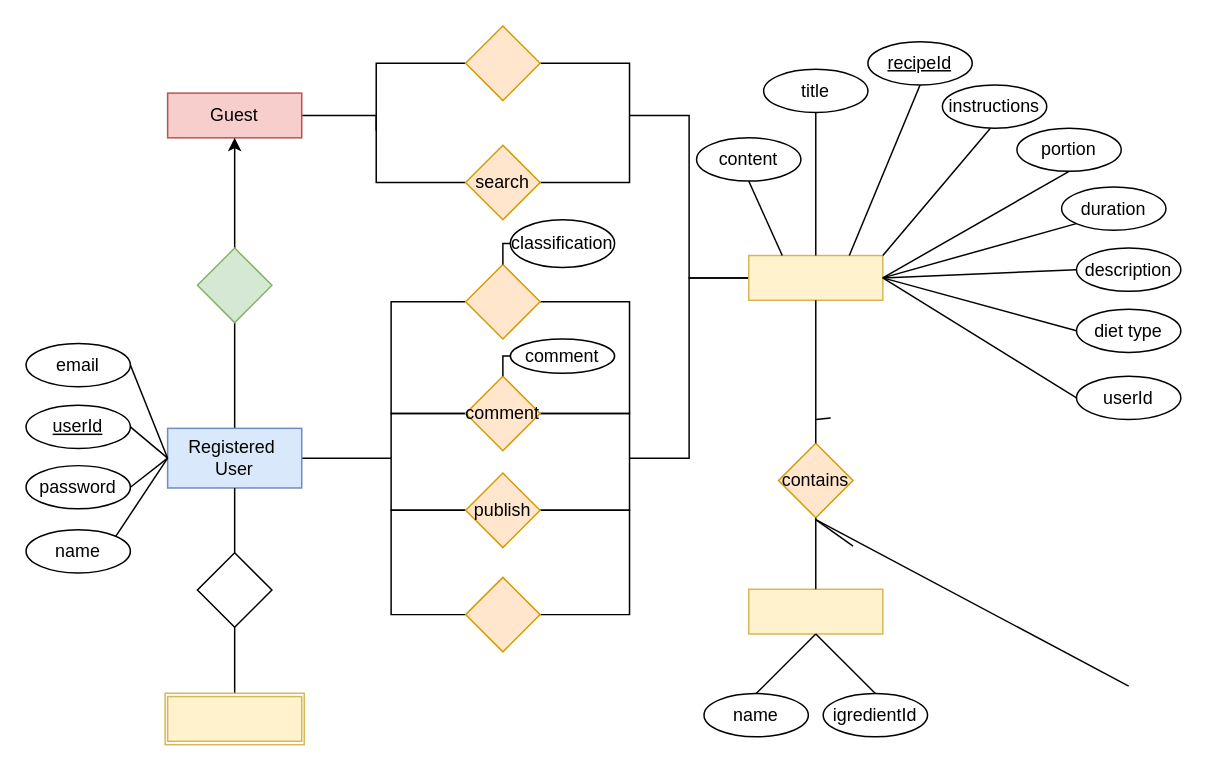
This 1207x772 diagram has some shape labels left out. Here are the shapes that lost their labels. From the top down, the centre of each, then its label:
At (502,63): "view".
At (234,285): "IS_A".
At (815,277): "Recipe".
At (502,301): "classifies".
At (234,589): "HAS".
At (502,614): "saves".
At (815,611): "ingredient".
At (234,718): "Shopping List".
